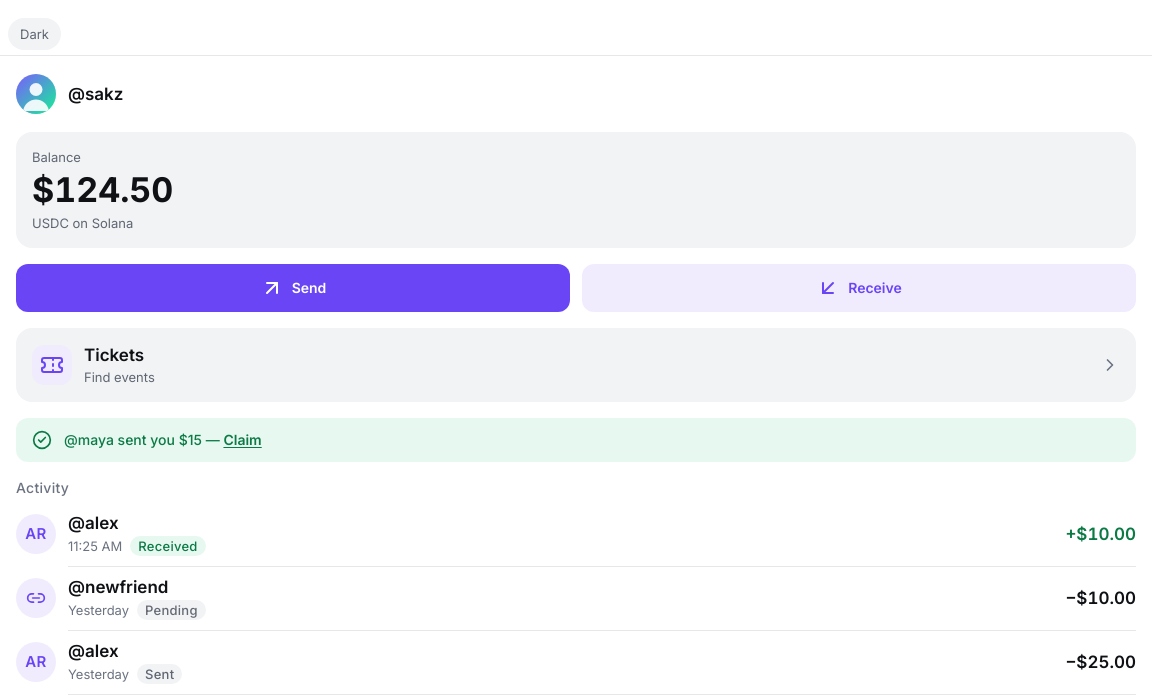
Test: S11/S12 events › Home has a Tickets entry; S11 lists events with Sold out pill
This screenshot has width=1152, height=695.
Click the button with aria-label "Tickets, Find events": [52, 365] box [16,328,1136,402]
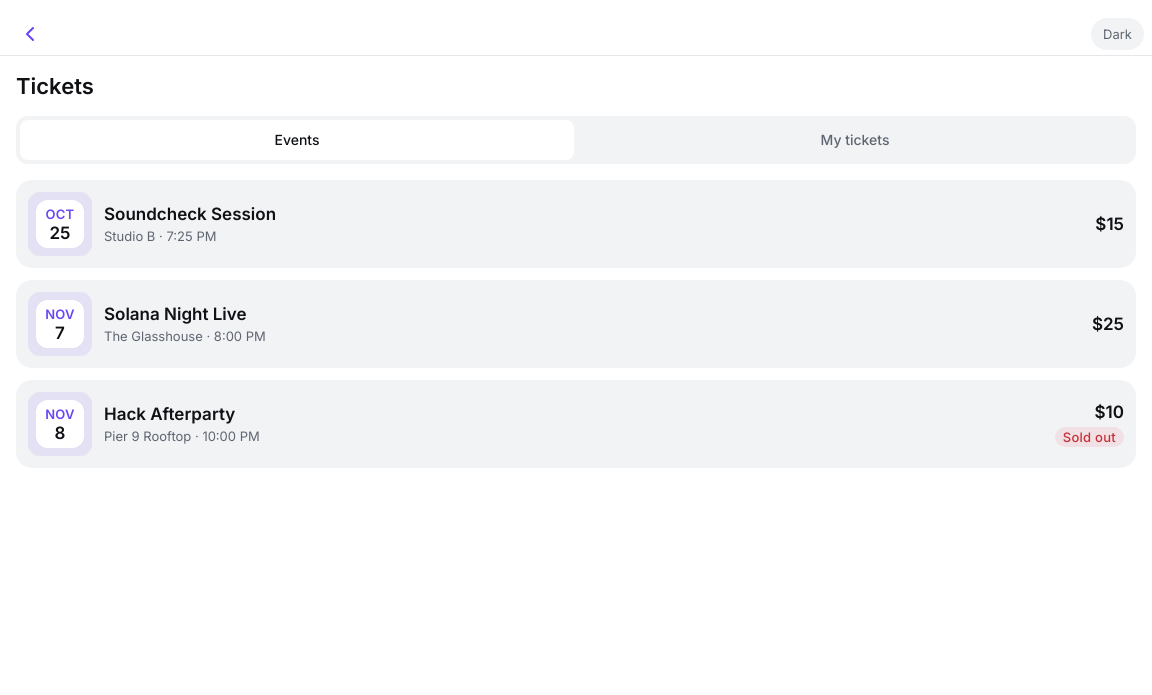
Expected: the button "NOV 7 Solana Night Live The Glasshouse · 8:00 PM $25" is shown, [16,280,1136,368]
Expected: the text "Sold out" is shown, [1055,427,1124,447]
